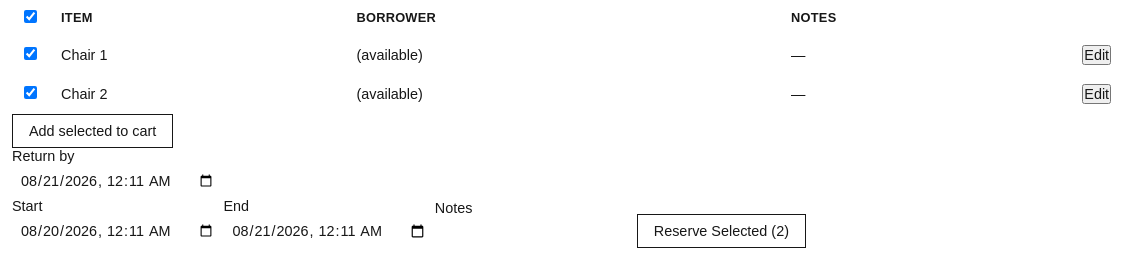
header select-all checkbox › becomes indeterminate when only some rows are checked
The width and height of the screenshot is (1128, 265).
Click the checkbox named "Select Chair 1": (30, 53) [24,47,37,60]
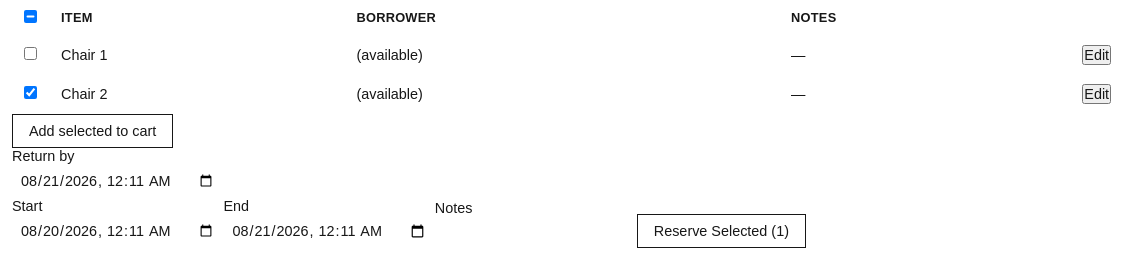
Expected: the checkbox named "Select all sub-items" is not checked, [24,10,37,23]
